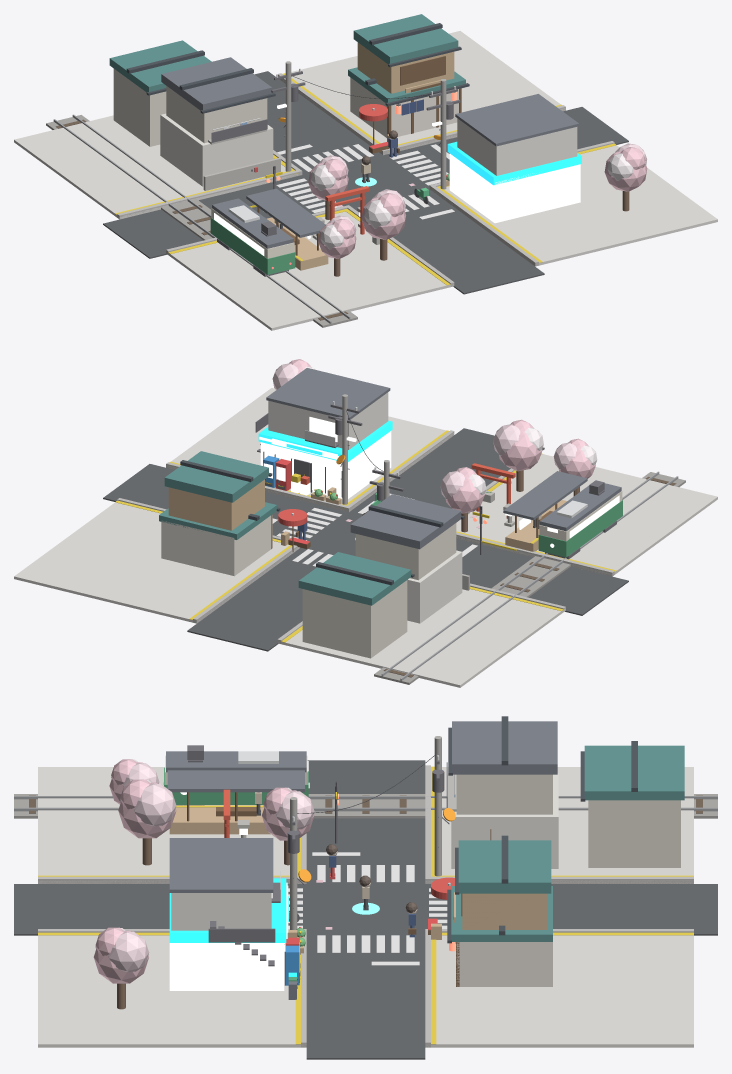
The model's file is full_district.glb.
3 renders of one model, top to bottom at view 1: azimuth 30°, elevation 25°; view 2: azimuth 150°, elevation 25°; view 3: azimuth 270°, elevation 25°, orthographic. The views are drawn at different scales.
Parts seen in each view (by area): view 1: Sidewalk_-1_-1, Road_NS, Sidewalk_1_-1, Sidewalk_-1_1, Road_EW, Sidewalk_1_1, Lawson_1F_Base, House1_1F, Lawson_2F_Roof, Lawson_2F_Base, House1_Roof_Base, Ramen_Roof_Top_Base (+28 smaller); view 2: Sidewalk_1_1, Road_NS, Sidewalk_-1_1, Sidewalk_-1_-1, Road_EW, House2_1F, Sidewalk_1_-1, Ramen_1F_Core, Lawson_2F_Roof, House1_Roof_Base, House2_Roof_Base, Ramen_Roof_Top_Base (+24 smaller); view 3: Road_EW, Sidewalk_1_1, Sidewalk_1_-1, Road_NS, Sidewalk_-1_-1, House2_1F, Sidewalk_-1_1, Lawson_2F_Roof, House1_Roof_Base, Lawson_1F_Base, House2_Roof_Base, Ramen_Roof_Top_Base (+32 smaller).
Part boxes in pixels (x1,y1,x2,y2): Sidewalk_-1_-1: [167, 211, 453, 330]; Road_NS: [254, 71, 544, 294]; Sidewalk_1_-1: [430, 145, 717, 265]; Sidewalk_-1_1: [14, 115, 298, 219]; Road_EW: [103, 107, 628, 258]; Sidewalk_1_1: [278, 31, 565, 153]; Lawson_1F_Base: [449, 153, 580, 223]; House1_1F: [160, 113, 273, 186]; Lawson_2F_Roof: [455, 94, 579, 146]; Lawson_2F_Base: [457, 118, 577, 175]; House1_Roof_Base: [161, 57, 272, 110]; Ramen_Roof_Top_Base: [353, 14, 458, 63]; Sidewalk_1_1: [14, 502, 299, 622]; Road_NS: [187, 428, 544, 651]; Sidewalk_-1_1: [278, 589, 565, 687]; Sidewalk_-1_-1: [456, 454, 717, 575]; Road_EW: [103, 464, 628, 615]; House2_1F: [302, 580, 407, 658]; Sidewalk_1_-1: [166, 388, 454, 510]; Ramen_1F_Core: [161, 515, 272, 576]; Lawson_2F_Roof: [266, 368, 390, 419]; House1_Roof_Base: [350, 494, 461, 549]; House2_Roof_Base: [298, 552, 411, 605]; Ramen_Roof_Top_Base: [164, 451, 268, 502]; Road_EW: [306, 760, 425, 1059]; Sidewalk_1_1: [426, 935, 693, 1047]; Sidewalk_1_-1: [38, 935, 306, 1047]; Road_NS: [14, 884, 717, 935]; Sidewalk_-1_-1: [38, 767, 303, 883]; House2_1F: [588, 800, 680, 867]; Sidewalk_-1_1: [425, 767, 693, 883]; Lawson_2F_Roof: [169, 838, 273, 892]; House1_Roof_Base: [452, 721, 557, 774]; Lawson_1F_Base: [169, 943, 284, 990]; House2_Roof_Base: [584, 745, 684, 800]; Ramen_Roof_Top_Base: [458, 840, 551, 893].
Bounding box in the file's own units: 38 × 8.5 × 38.
